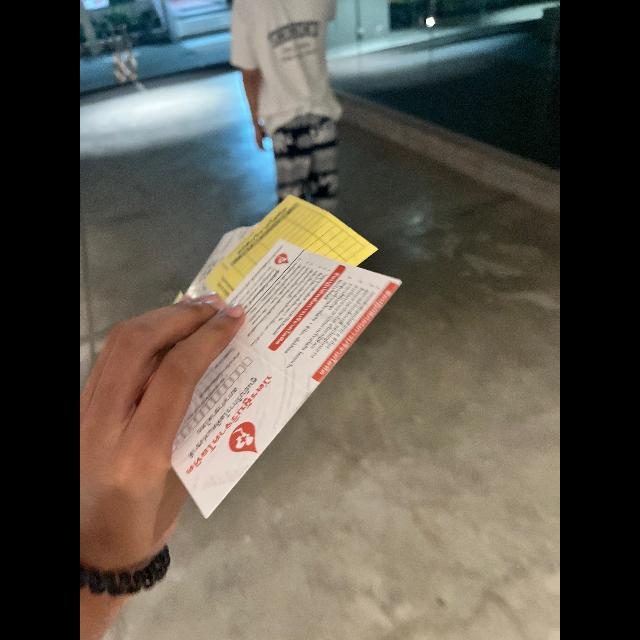scrap_paper: (158, 250, 408, 524), (202, 194, 380, 310)
